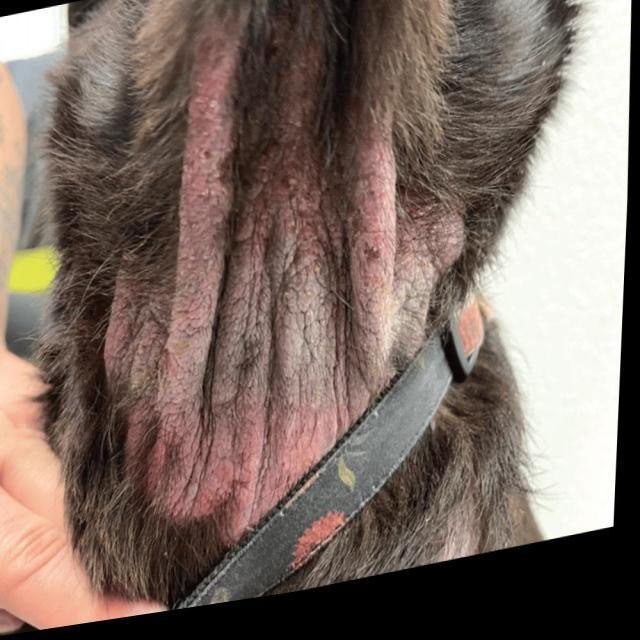mange: (190, 55, 398, 428), (99, 215, 222, 502), (374, 172, 466, 350)
